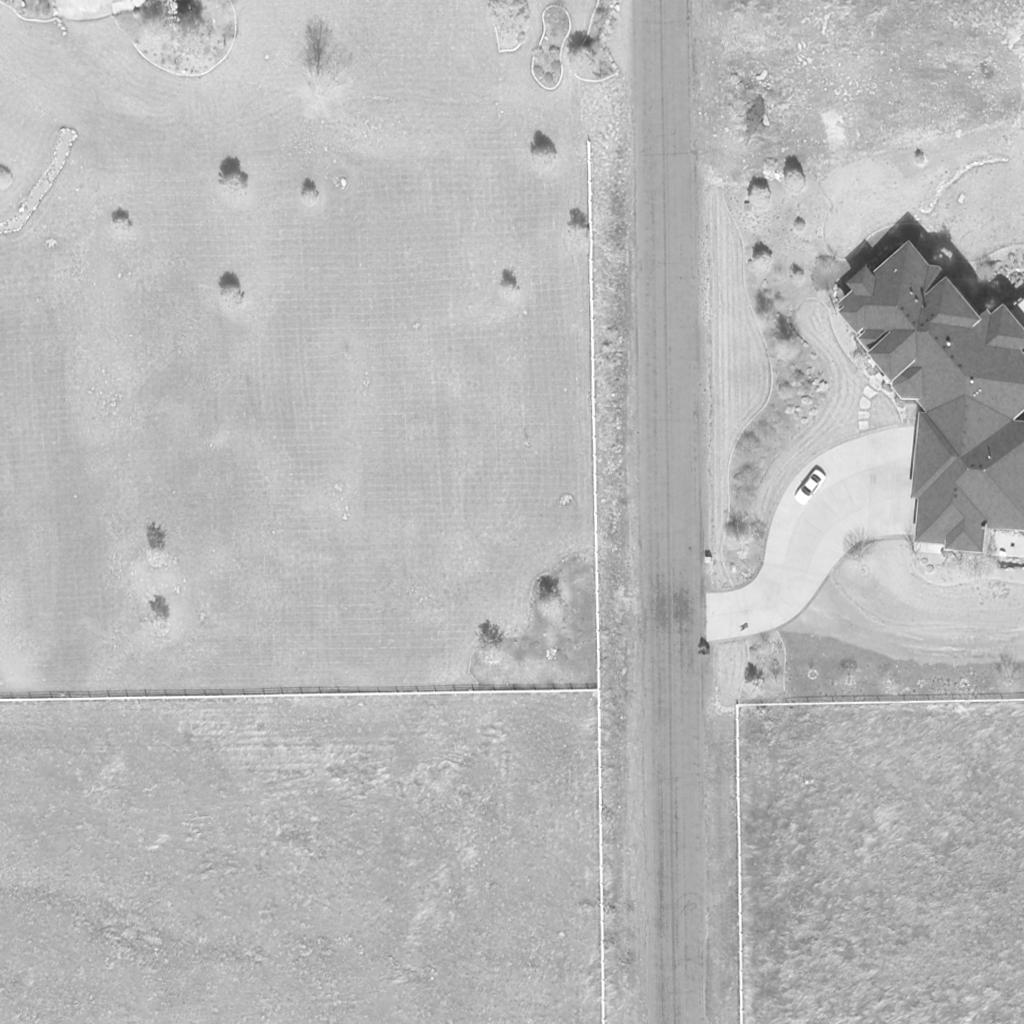vehicle: (792, 467, 828, 507)
